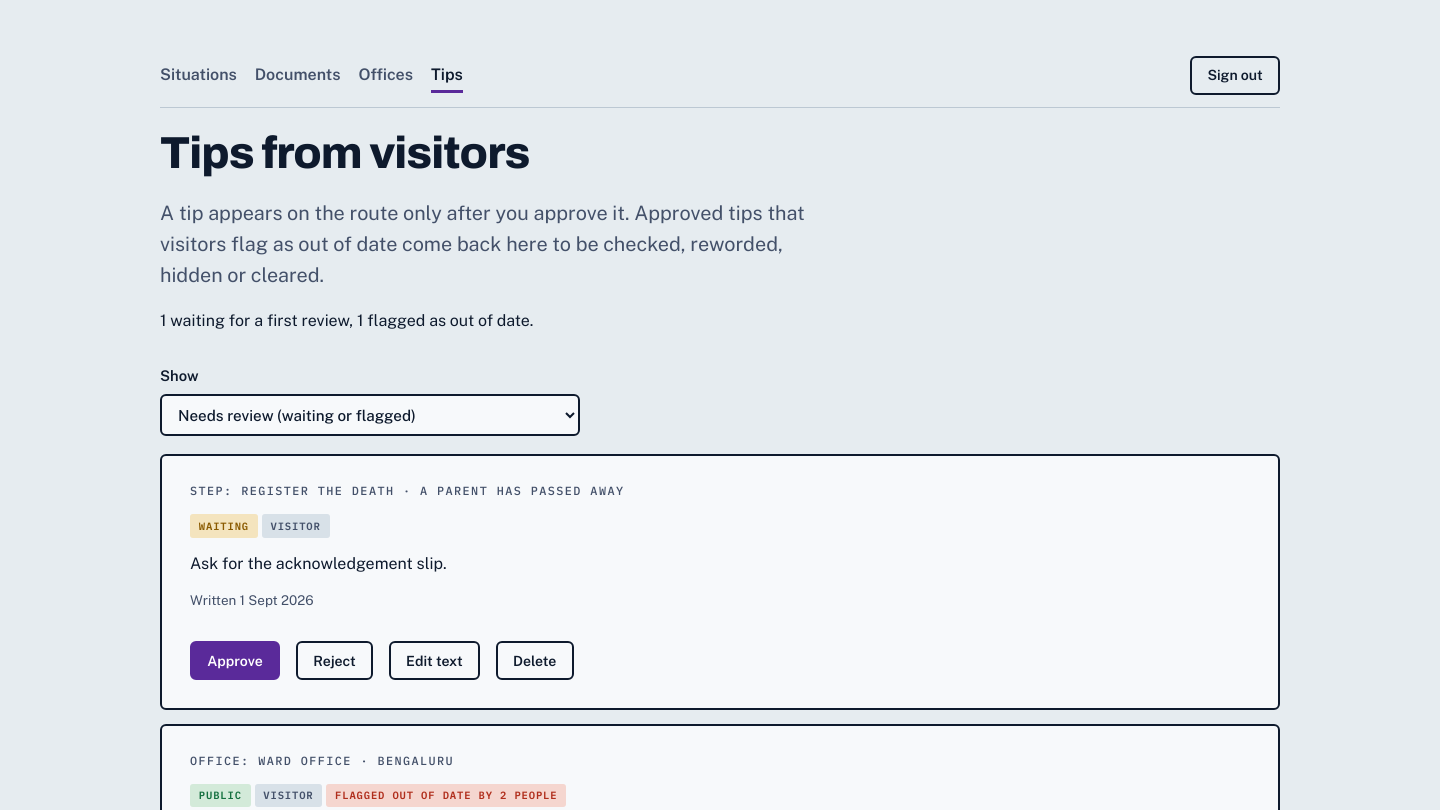
Test: Admin: tips › approves a waiting tip and reloads the queue
This screenshot has width=1440, height=810.
Click the button "Approve" at [235, 661], box [190,641,280,680]
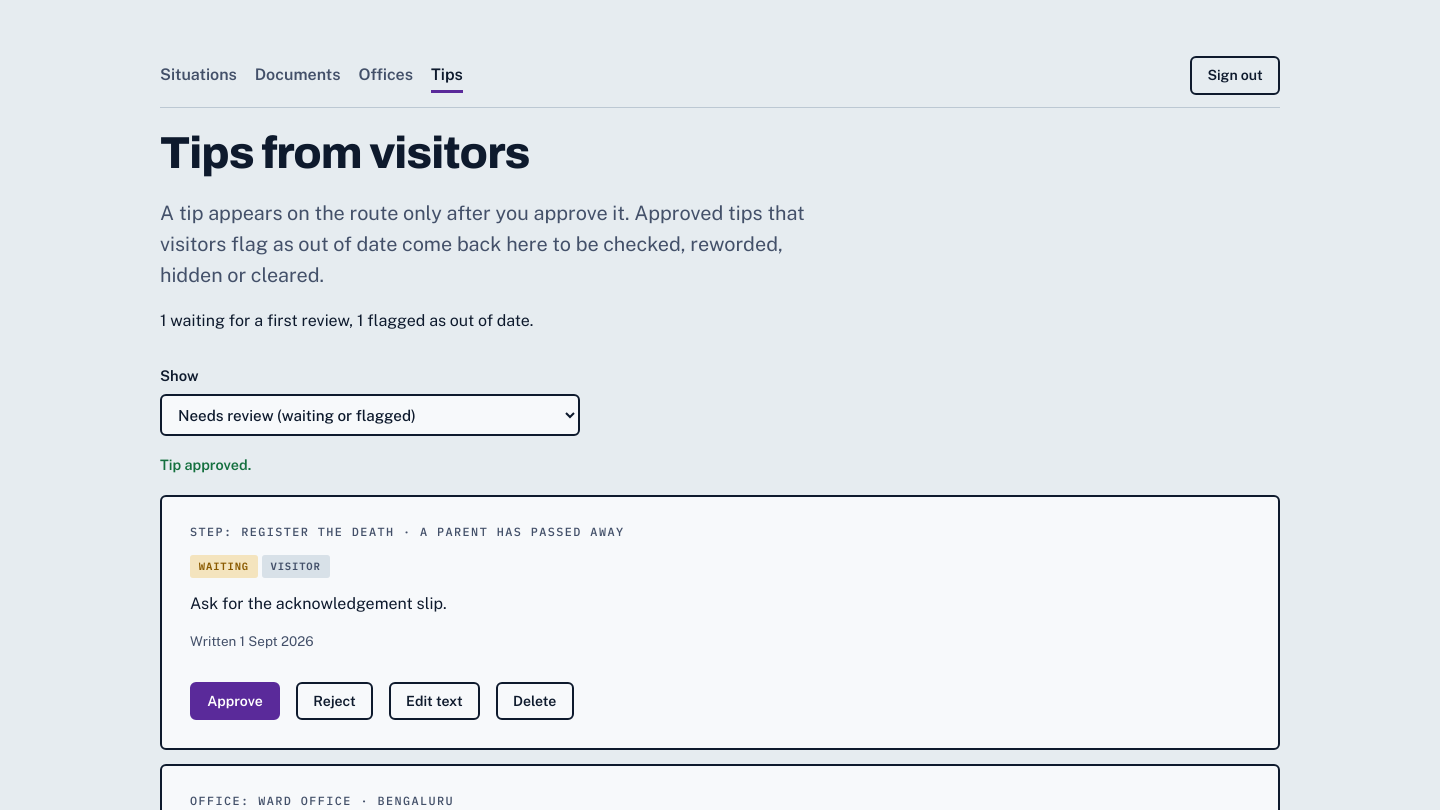
Expected: the text "Tip approved." is shown, [160,456,251,474]
